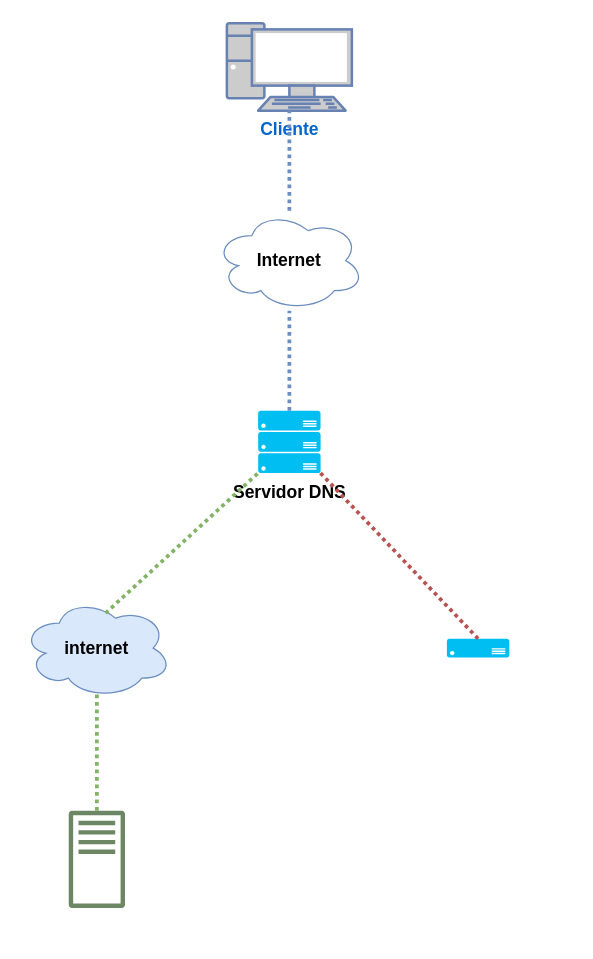
This 593x959 diagram has some shape labels left out. Here are the shapes that lost their labels. From the top down, the box of each, then its label:
(446, 638, 509, 657): Amazon EC2 (failover)
(68, 809, 125, 908): Server Principal
